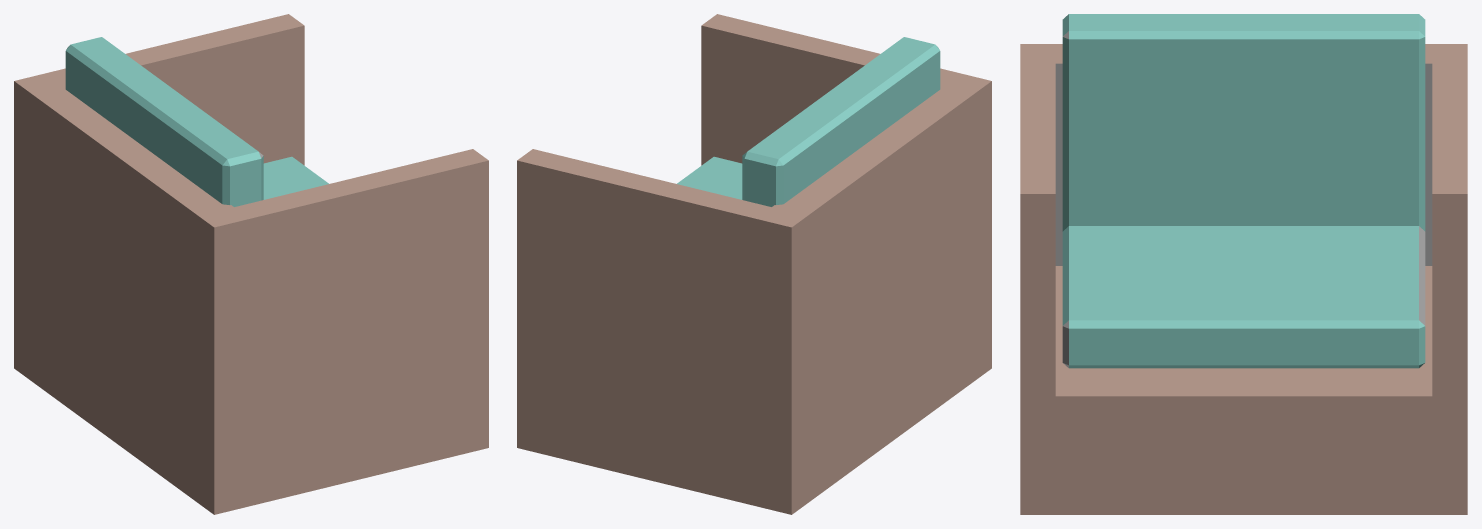
Rendered from DrChair (Untextured).fbx.
3 renders of one model, left to right at view 1: azimuth 30°, elevation 25°; view 2: azimuth 150°, elevation 25°; view 3: azimuth 270°, elevation 25°, orthographic. The views are drawn at different scales.
Visible parts, largest first — view 1: pCube4; view 2: pCube4; view 3: pCube4.
Boxes of the visible parts, bbox=[...] form: pCube4: bbox=[14, 14, 488, 514]; pCube4: bbox=[517, 14, 991, 514]; pCube4: bbox=[1020, 14, 1467, 514].
Bounding box in the file's own units: 8.74 × 10.07 × 11.03.
